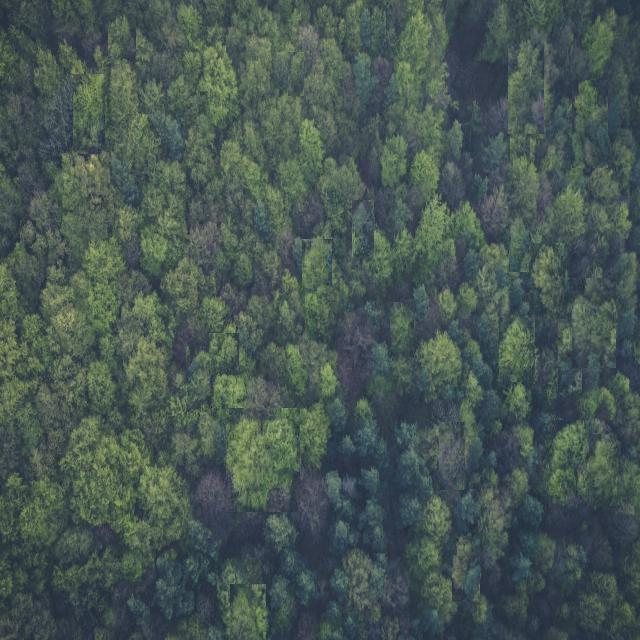tree: (226, 408, 300, 512), (122, 338, 166, 429), (572, 278, 616, 368), (549, 420, 591, 508), (418, 332, 462, 408), (508, 44, 544, 134), (572, 80, 608, 168), (580, 2, 618, 82), (476, 486, 512, 568), (531, 243, 565, 319), (173, 404, 211, 472), (73, 74, 105, 154), (499, 318, 535, 382), (589, 434, 617, 506), (230, 584, 266, 640), (304, 402, 332, 471), (298, 118, 324, 190), (452, 536, 480, 602), (186, 346, 214, 412), (348, 398, 376, 462), (439, 422, 465, 490), (408, 147, 438, 205), (39, 267, 69, 325), (510, 160, 538, 220), (558, 323, 582, 393), (302, 239, 332, 293), (484, 0, 508, 66), (476, 300, 500, 358), (380, 136, 404, 194), (481, 132, 507, 184), (108, 16, 136, 64), (370, 366, 394, 422), (390, 302, 414, 358), (127, 114, 149, 174), (352, 200, 374, 258), (209, 333, 239, 375), (390, 228, 414, 280), (166, 193, 186, 253), (509, 218, 529, 272), (353, 49, 371, 102), (442, 118, 462, 162), (436, 285, 456, 327), (588, 160, 608, 200), (370, 5, 386, 53), (232, 254, 252, 292), (510, 123, 530, 161), (336, 434, 356, 472), (316, 4, 336, 41), (90, 42, 108, 82), (288, 52, 304, 96), (350, 280, 366, 312), (20, 220, 36, 248), (1, 233, 10, 259)
